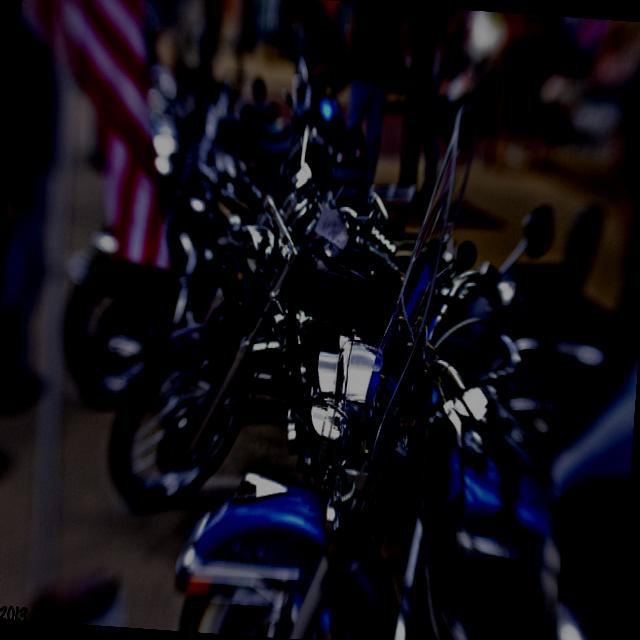Vehicle: (167, 59, 640, 640), (104, 48, 640, 530), (53, 73, 374, 420)
